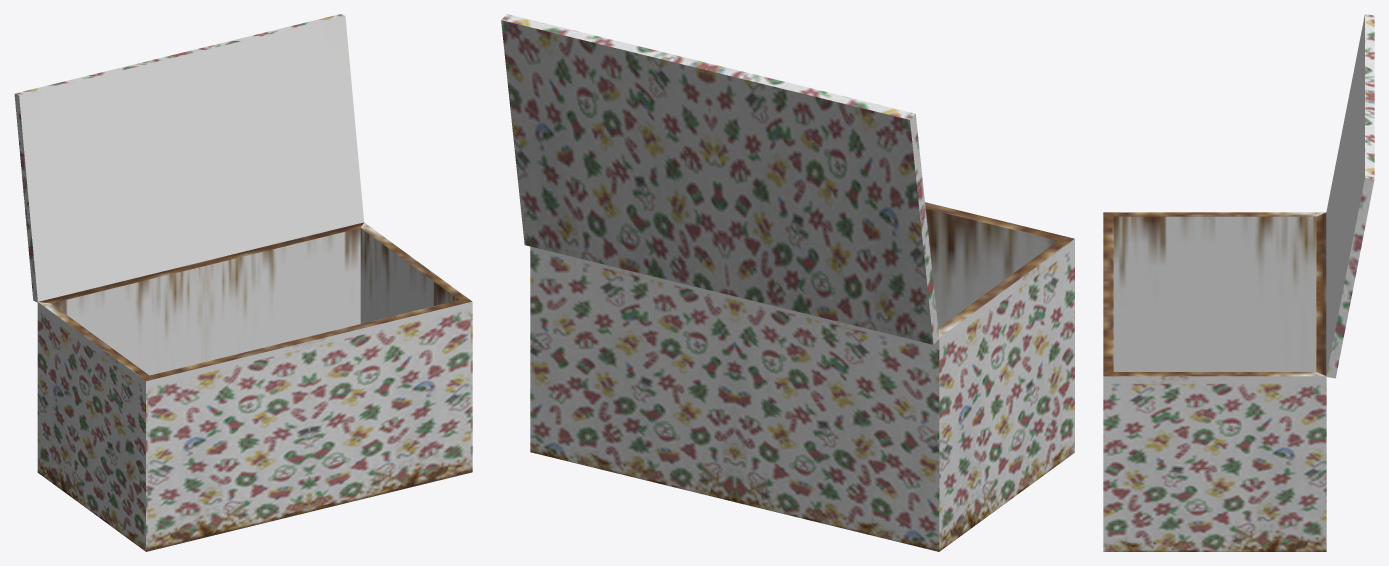
File: Chest.fbx
3 views of the same model, side by side, from view 1: azimuth 30°, elevation 25°; view 2: azimuth 150°, elevation 25°; view 3: azimuth 270°, elevation 25° (orthographic). The views are drawn at different scales.
Parts seen in each view (by area): view 1: Cube; view 2: Cube; view 3: Cube.
Part boxes in pixels (box(x1,y1,x2,y2)): Cube: box(14, 14, 472, 551); Cube: box(501, 14, 1074, 551); Cube: box(1103, 14, 1374, 551).
Size of the model in its own units: 400 by 426 by 280.
Materials: 1 (1 with a texture image).
